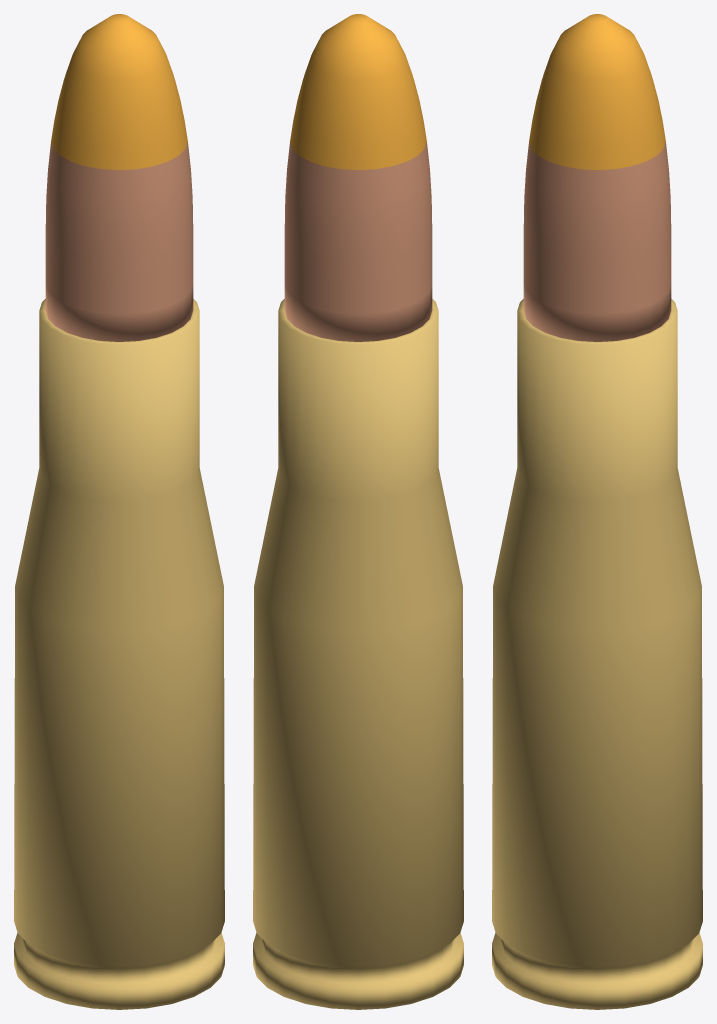
3 renders of one model, left to right at view 1: azimuth 30°, elevation 25°; view 2: azimuth 150°, elevation 25°; view 3: azimuth 270°, elevation 25°, orthographic.
Visible parts, largest first — view 1: vaina, bala_cuerpo, punta; view 2: vaina, bala_cuerpo, punta; view 3: vaina, bala_cuerpo, punta.
Boxes of the visible parts, bbox=[...] form: vaina: bbox=[14, 299, 224, 1009]; bala_cuerpo: bbox=[45, 142, 193, 341]; punta: bbox=[51, 14, 187, 169]; vaina: bbox=[253, 299, 463, 1009]; bala_cuerpo: bbox=[284, 142, 432, 341]; punta: bbox=[290, 14, 426, 169]; vaina: bbox=[492, 299, 702, 1009]; bala_cuerpo: bbox=[523, 142, 671, 341]; punta: bbox=[529, 14, 665, 169].
Size of the model in its own units: 0.0113 by 0.056 by 0.0113.
